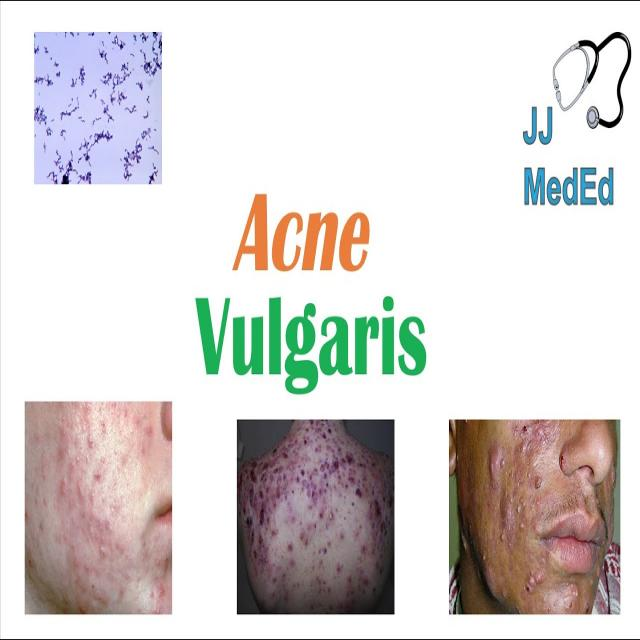acne: (25, 402, 172, 614), (479, 419, 585, 617)
